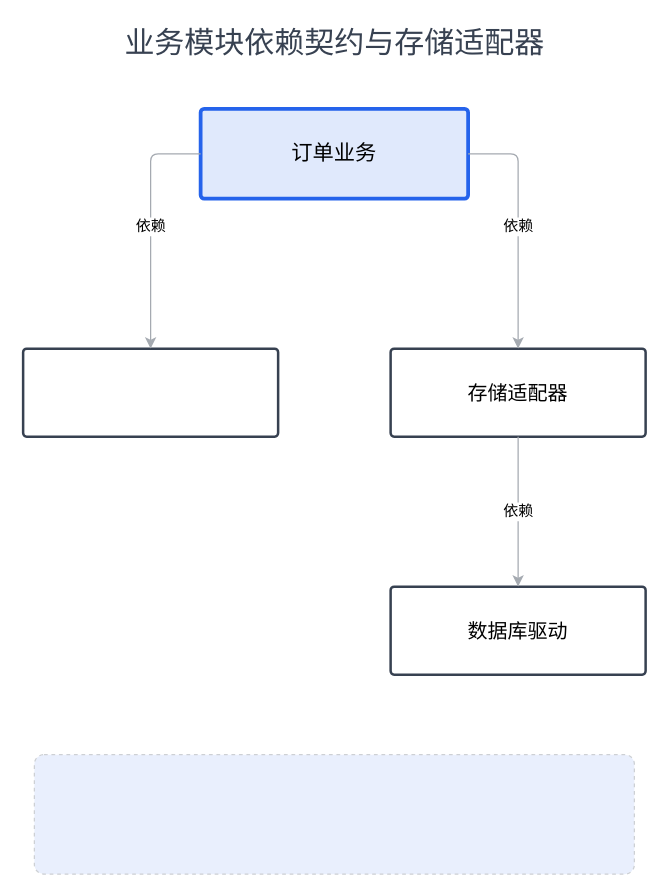
Some shapes in this 668 by 896 pixel diagram are drawn without their labels. Here are the shapes that lost their labels. From the top down, the centre of each, then its label:
At [150,392]: "接口契约".
At [333,813]: "方向约定 • 箭头由依赖方指向被依赖方；不表示请求时序。".
